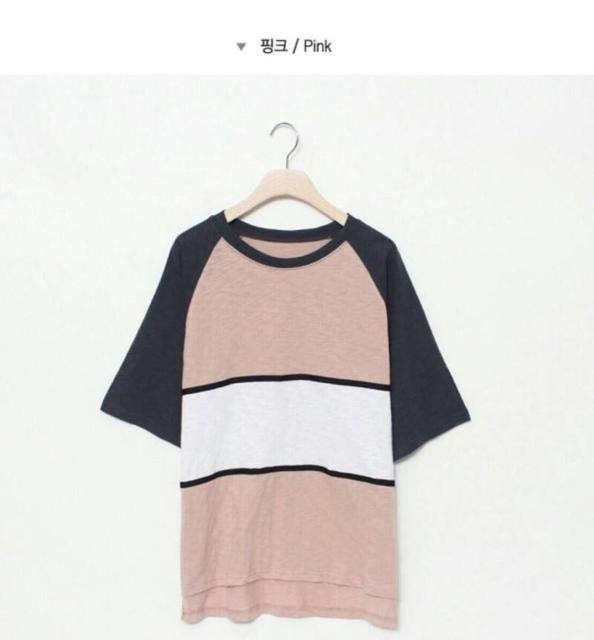Tops: (98, 209, 468, 626)
